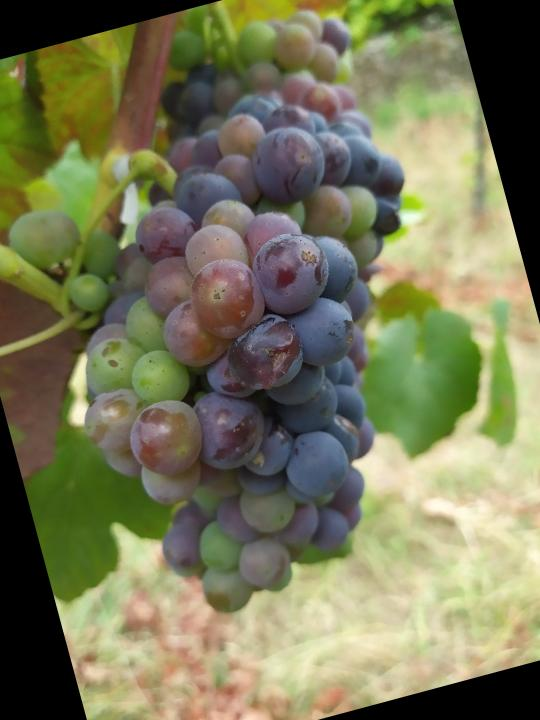grape: (12, 90, 445, 642)
